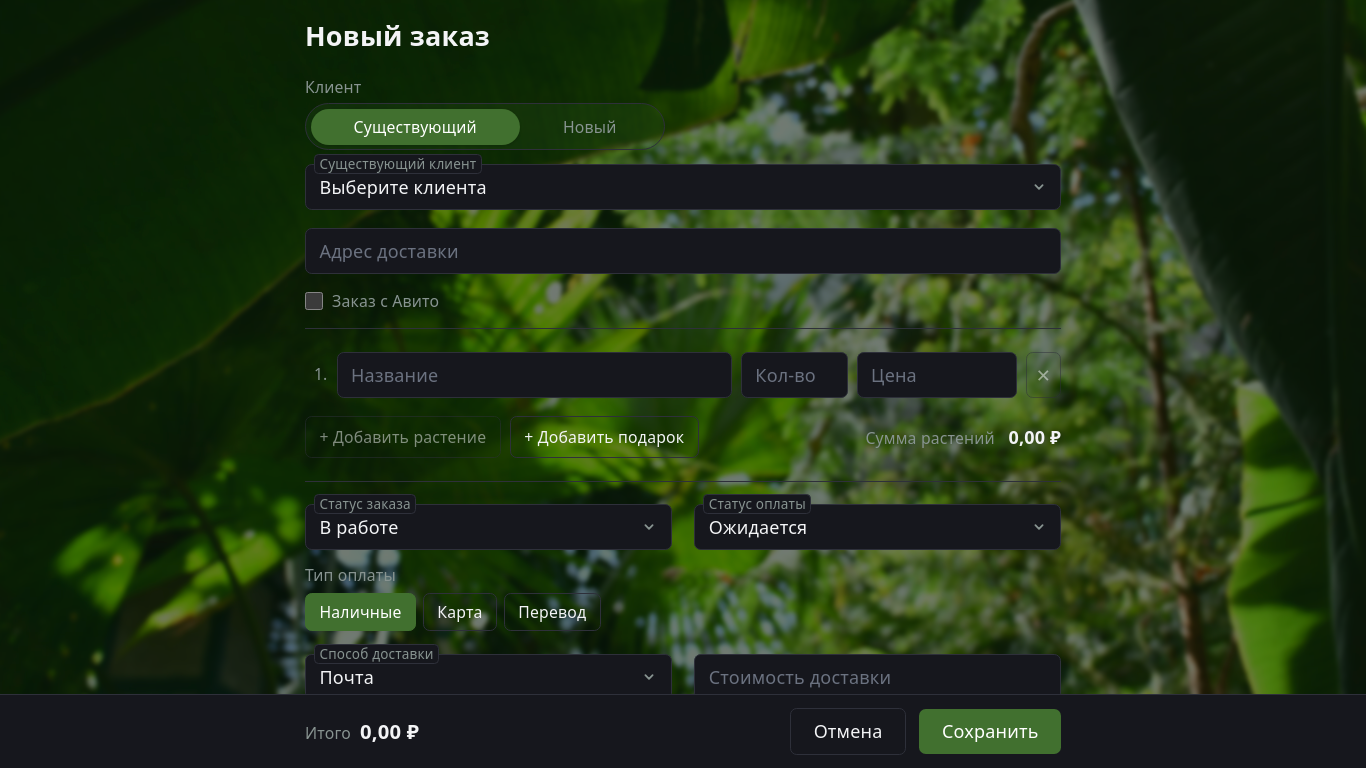
Test: NewOrderPage › restores the prefilled address when toggling the mode slider back to existing
This screenshot has width=1366, height=768.
Select "Анна" in the dropdown labelled "Существующий клиент": (683, 187) [305,164,1061,210]
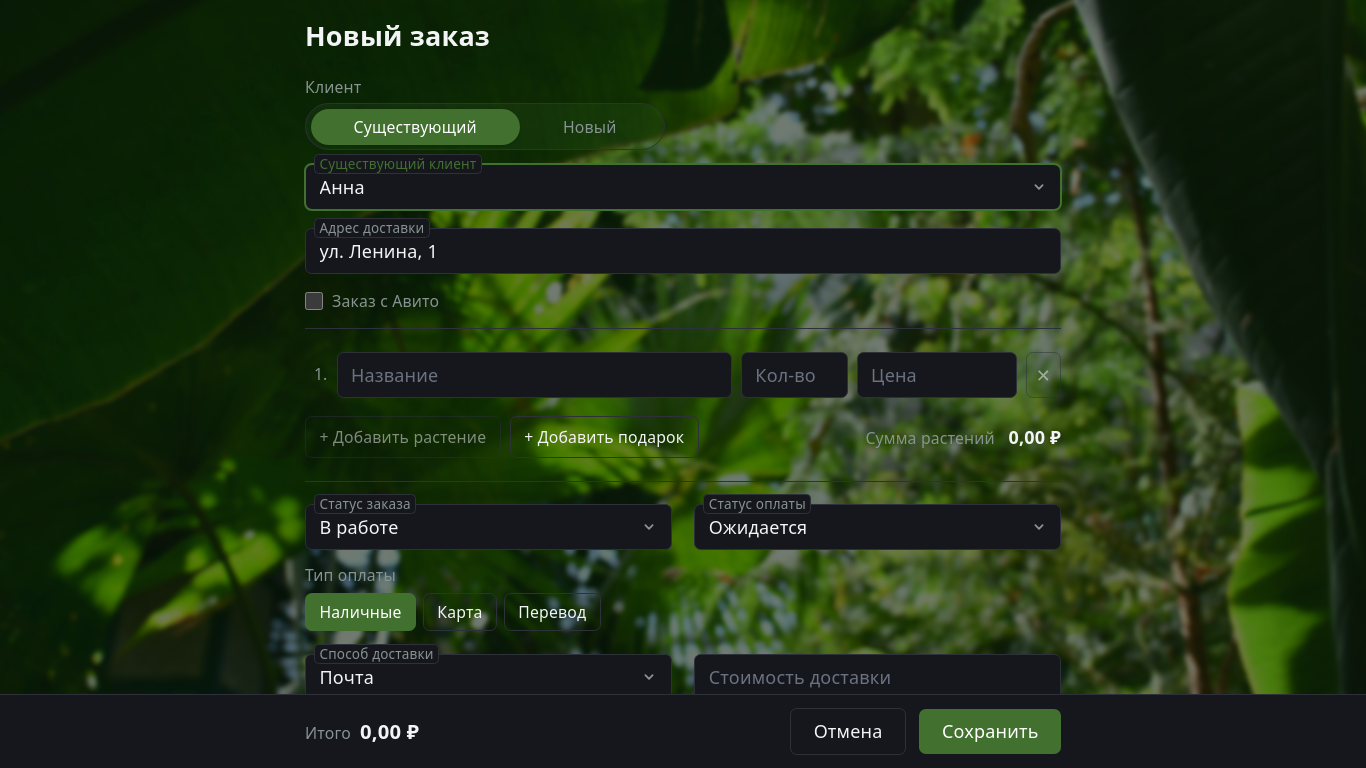
Click the radio button labelled "Новый": click(590, 127) [563,116,616,138]
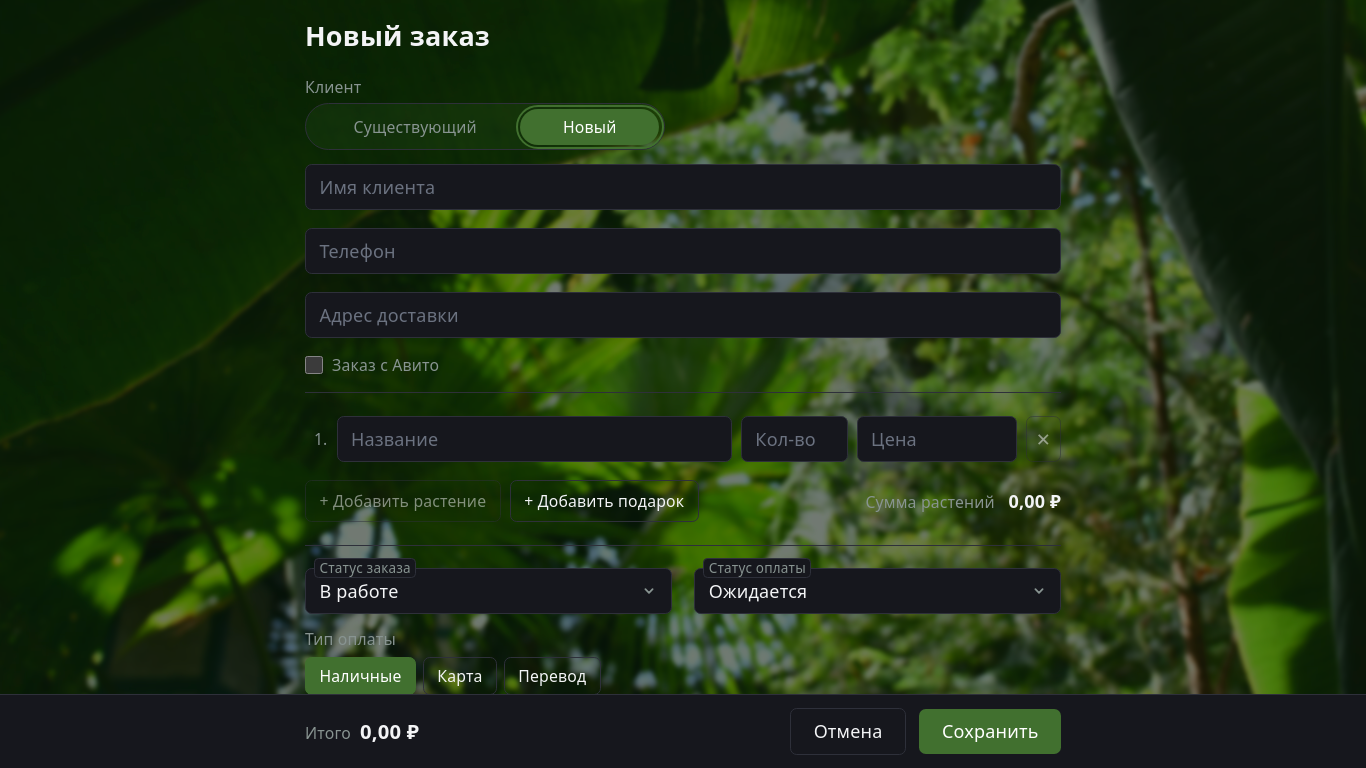
Result: the field showing "ул. Ленина, 1" is empty at [305,292,1061,338]
Click the radio button labelled "Существующий": click(415, 127) [354,116,477,138]
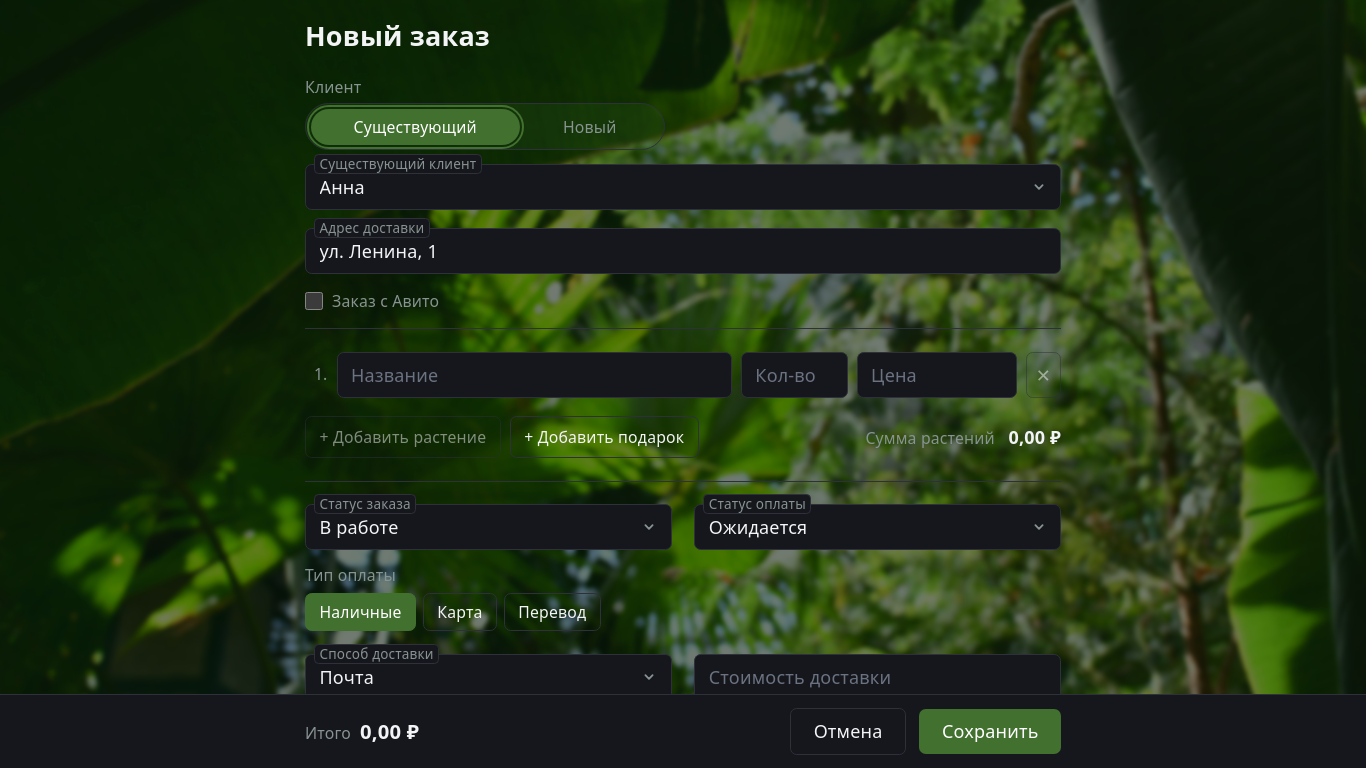
Result: the field showing "ул. Ленина, 1" holds "ул. Ленина, 1" at [305,228,1061,274]
